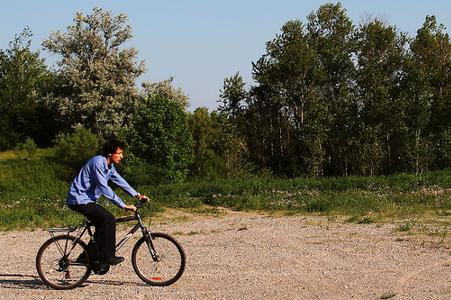person: (67, 141, 149, 269)
